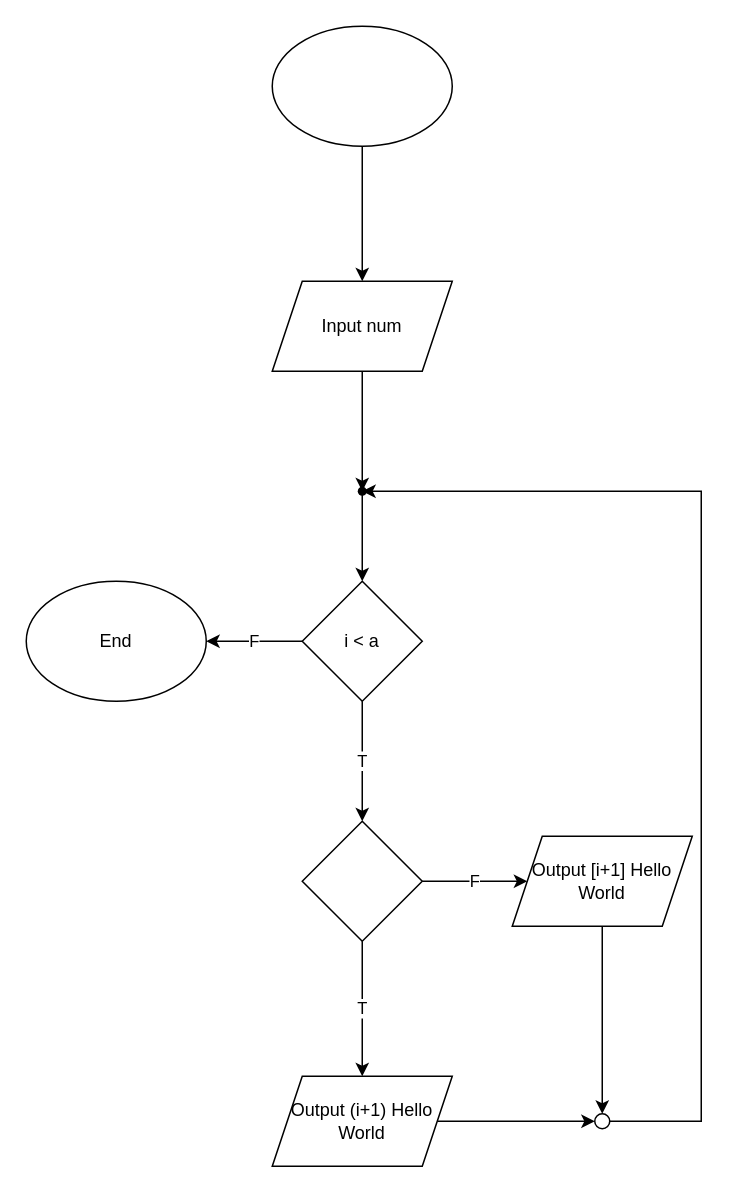
The diagram is 740 pixels wide and 1193 high, and some of its shapes have lost their labels. Here are the shapes that lost their labels. From the top down, the box of each, then its label:
(271, 25, 452, 146): Start
(301, 820, 422, 941): a % 2 = 0
